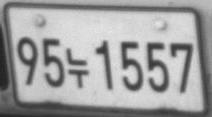1: (93, 39, 117, 90)
5: (119, 40, 143, 92), (42, 37, 65, 88), (146, 41, 169, 92)
7: (170, 42, 194, 93)
9: (16, 35, 38, 85)
누: (66, 47, 89, 88)
